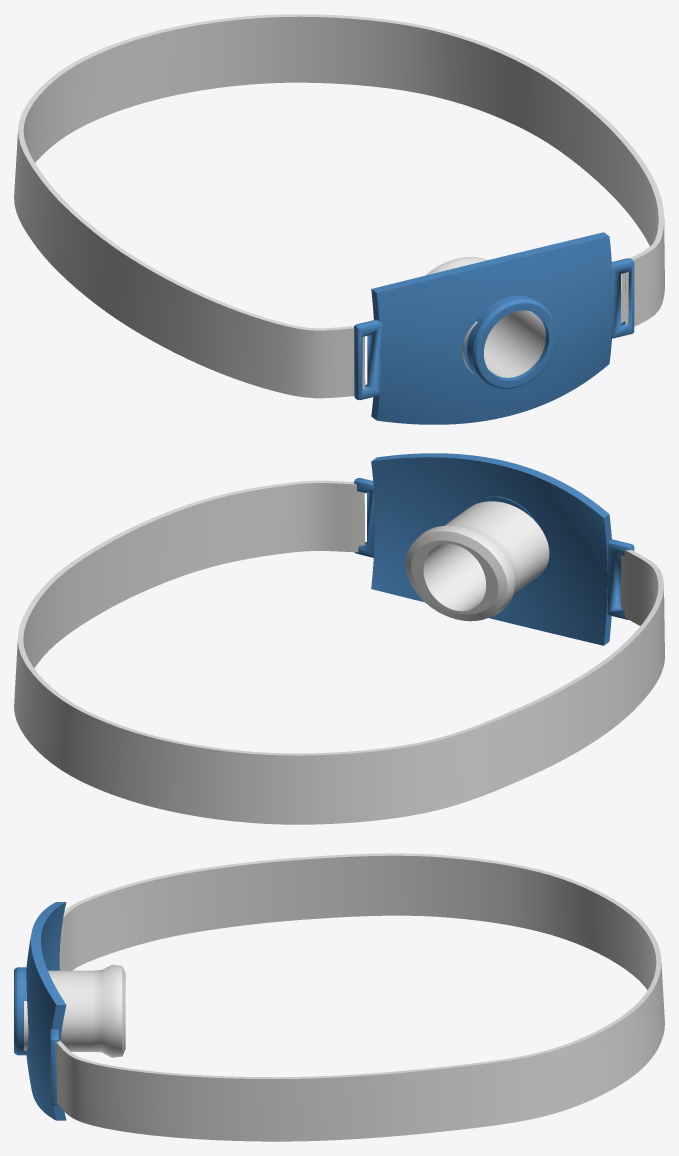
File: bite_block.glb
3 views of the same model, one above another, from view 1: azimuth 30°, elevation 25°; view 2: azimuth 150°, elevation 25°; view 3: azimuth 270°, elevation 25° (orthographic). The views are drawn at different scales.
Parts seen in each view (by area): view 1: strap, block; view 2: strap, block; view 3: strap, block.
Boxes of the visible parts, x1,y1,x2,y2 form: strap: (14,14,664,398); block: (354,232,634,424); strap: (14,480,664,824); block: (354,453,634,645); strap: (56,853,664,1141); block: (14,902,125,1120).
Size of the model in its own units: 0.1572 by 0.046 by 0.1923.
